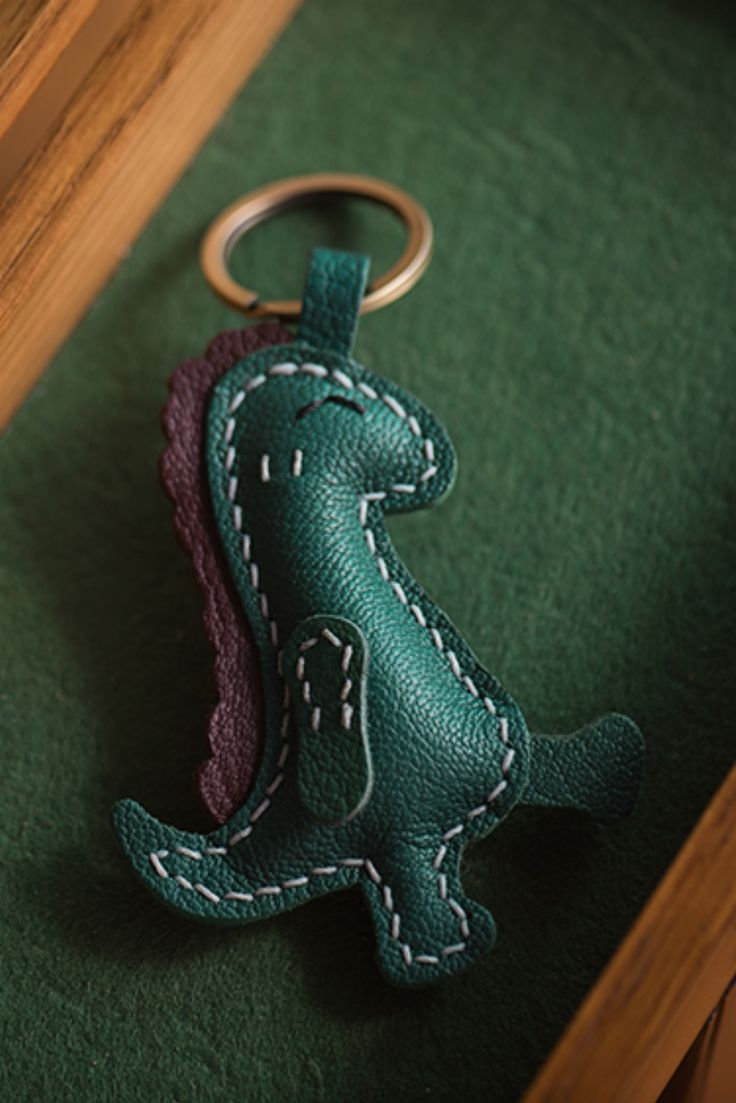cuero: (107, 247, 657, 984)
